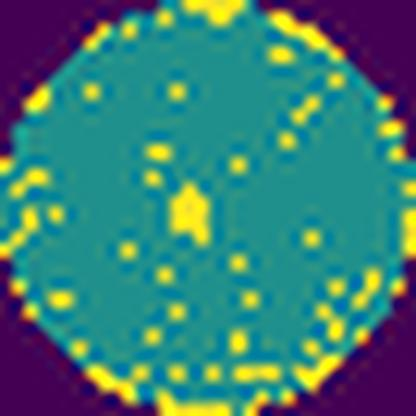Center: (168, 180, 216, 248)
